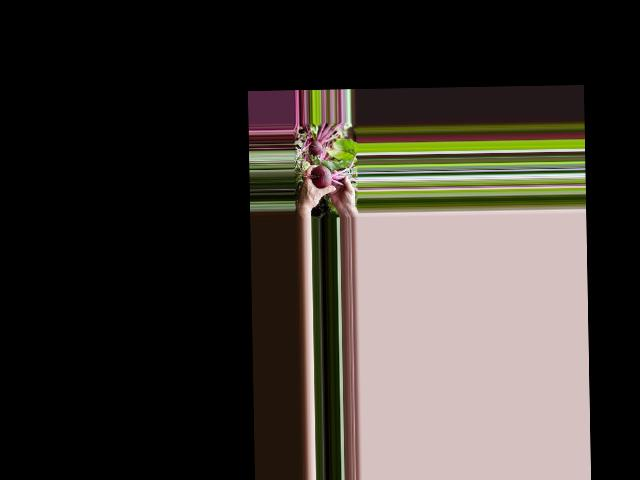beet: (310, 152, 357, 189)
